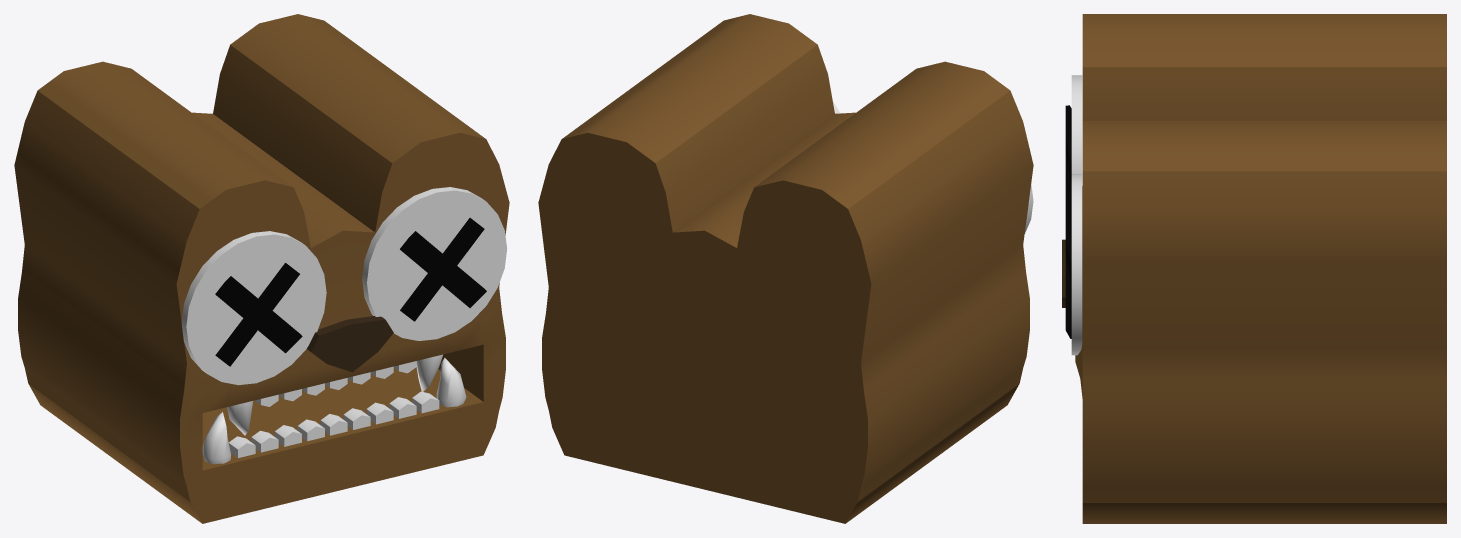
The model's file is CardGiver.fbx.
3 renders of one model, left to right at view 1: azimuth 30°, elevation 25°; view 2: azimuth 150°, elevation 25°; view 3: azimuth 270°, elevation 25°, orthographic. The views are drawn at different scales.
Visible parts, largest first — view 1: head, pDisc1, pDisc2, nose, pPlane2, pPlane4, pPlane3, pPlane5, pCube22, pCube23, pCube21, pCube20; view 2: head; view 3: head, pDisc2, pDisc1, pPlane4, pPlane2.
Part boxes in pixels (x1,y1,x2,y2): head: [14, 14, 509, 523]; pDisc1: [181, 231, 326, 385]; pDisc2: [362, 187, 507, 340]; nose: [307, 316, 393, 372]; pPlane2: [215, 276, 302, 353]; pPlane4: [400, 231, 486, 307]; pPlane3: [215, 263, 299, 366]; pPlane5: [400, 218, 484, 321]; pCube22: [202, 412, 230, 464]; pCube23: [436, 358, 466, 407]; pCube21: [416, 354, 442, 392]; pCube20: [227, 401, 253, 435]; head: [538, 14, 1033, 523]; head: [1075, 14, 1446, 523]; pDisc2: [1071, 174, 1082, 355]; pDisc1: [1071, 75, 1082, 174]; pPlane4: [1065, 206, 1071, 338]; pPlane2: [1065, 105, 1071, 208].
Bounding box in the file's own units: 7.57 × 7.14 × 6.75.
